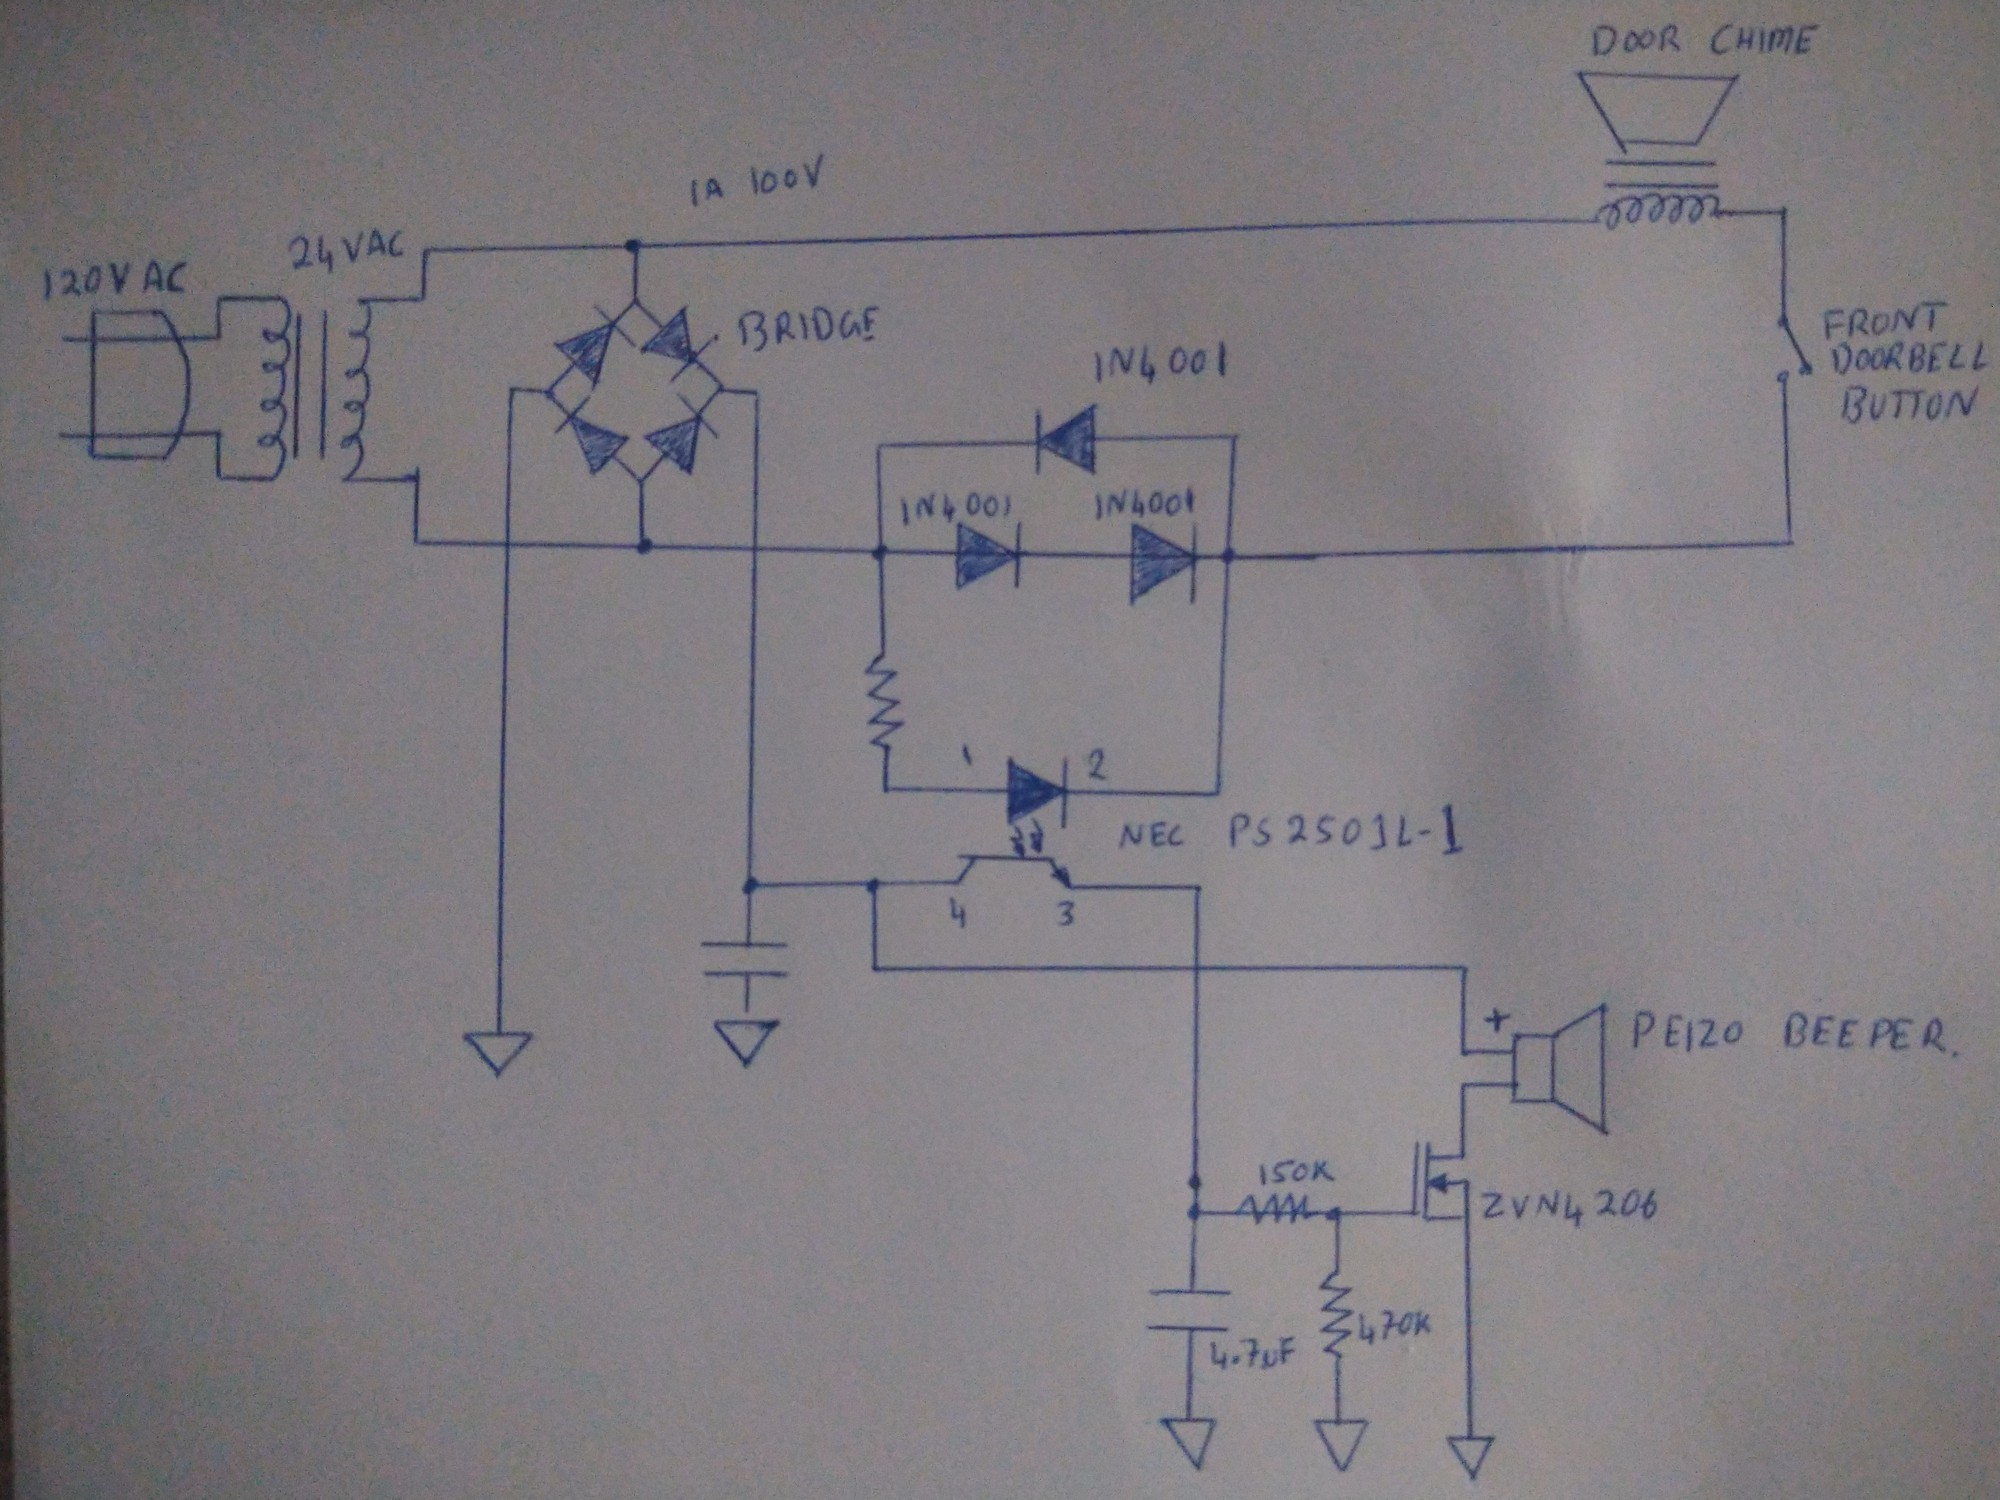capacitor.unpolarized: (1142, 1286, 1235, 1339), (698, 934, 794, 980)
crossover: (498, 531, 520, 553), (1186, 956, 1206, 977), (746, 539, 767, 559)
diode: (1126, 518, 1205, 610), (553, 306, 638, 389), (551, 394, 631, 477), (641, 392, 720, 477), (639, 306, 720, 381), (953, 517, 1028, 594), (1030, 402, 1102, 481)
gnd: (709, 1010, 784, 1075), (458, 1029, 535, 1081), (1159, 1413, 1220, 1476), (1310, 1415, 1372, 1476), (1446, 1432, 1498, 1484)
junction: (1184, 1201, 1208, 1224), (635, 534, 657, 559), (1323, 1204, 1350, 1224), (739, 874, 762, 895), (1217, 545, 1239, 566), (1772, 203, 1792, 225), (872, 540, 891, 564), (1450, 958, 1474, 977), (406, 468, 427, 488), (540, 381, 559, 403), (622, 236, 643, 255), (871, 436, 890, 455), (502, 381, 521, 400), (865, 878, 883, 895), (1187, 879, 1206, 897), (409, 534, 427, 553), (1783, 534, 1802, 551), (1457, 1041, 1474, 1060), (627, 295, 646, 312), (1227, 432, 1247, 447), (746, 386, 764, 403), (209, 470, 227, 487), (213, 425, 228, 444), (209, 328, 225, 347), (1208, 785, 1225, 800), (209, 291, 227, 307), (876, 780, 891, 796), (633, 473, 649, 488), (1457, 1078, 1472, 1093), (713, 381, 728, 399), (868, 961, 883, 975), (416, 291, 430, 307), (420, 244, 435, 258)
optocoupler: (950, 755, 1072, 892)
resistor: (858, 649, 910, 752), (1317, 1265, 1357, 1363), (1235, 1193, 1317, 1231)
socket: (87, 306, 195, 468)
speaker: (1573, 68, 1743, 236), (1509, 997, 1613, 1141)
switch: (1772, 310, 1820, 388)
terminal: (50, 425, 80, 447), (54, 329, 80, 348)
text: (1110, 800, 1476, 863), (1630, 1005, 1964, 1060), (1479, 1182, 1665, 1234), (1587, 20, 1817, 60), (687, 151, 828, 214), (1091, 339, 1230, 392), (735, 307, 880, 356), (1836, 381, 1983, 429), (287, 225, 409, 279), (43, 258, 187, 303), (1828, 339, 1994, 377), (1824, 299, 1946, 343), (898, 492, 1016, 528), (1206, 1335, 1302, 1376), (1356, 1308, 1435, 1349), (1049, 499, 1143, 531), (1257, 1158, 1339, 1188), (945, 897, 973, 930), (1083, 747, 1110, 782), (1054, 898, 1079, 928), (956, 739, 980, 767)
transformer: (260, 291, 375, 488)
transistor: (1403, 1138, 1476, 1227)
